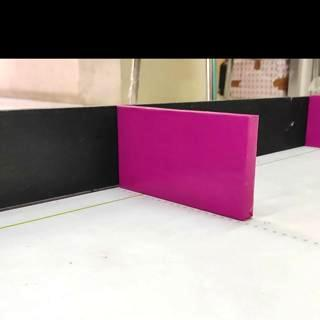xparking: (120, 116, 253, 223)
